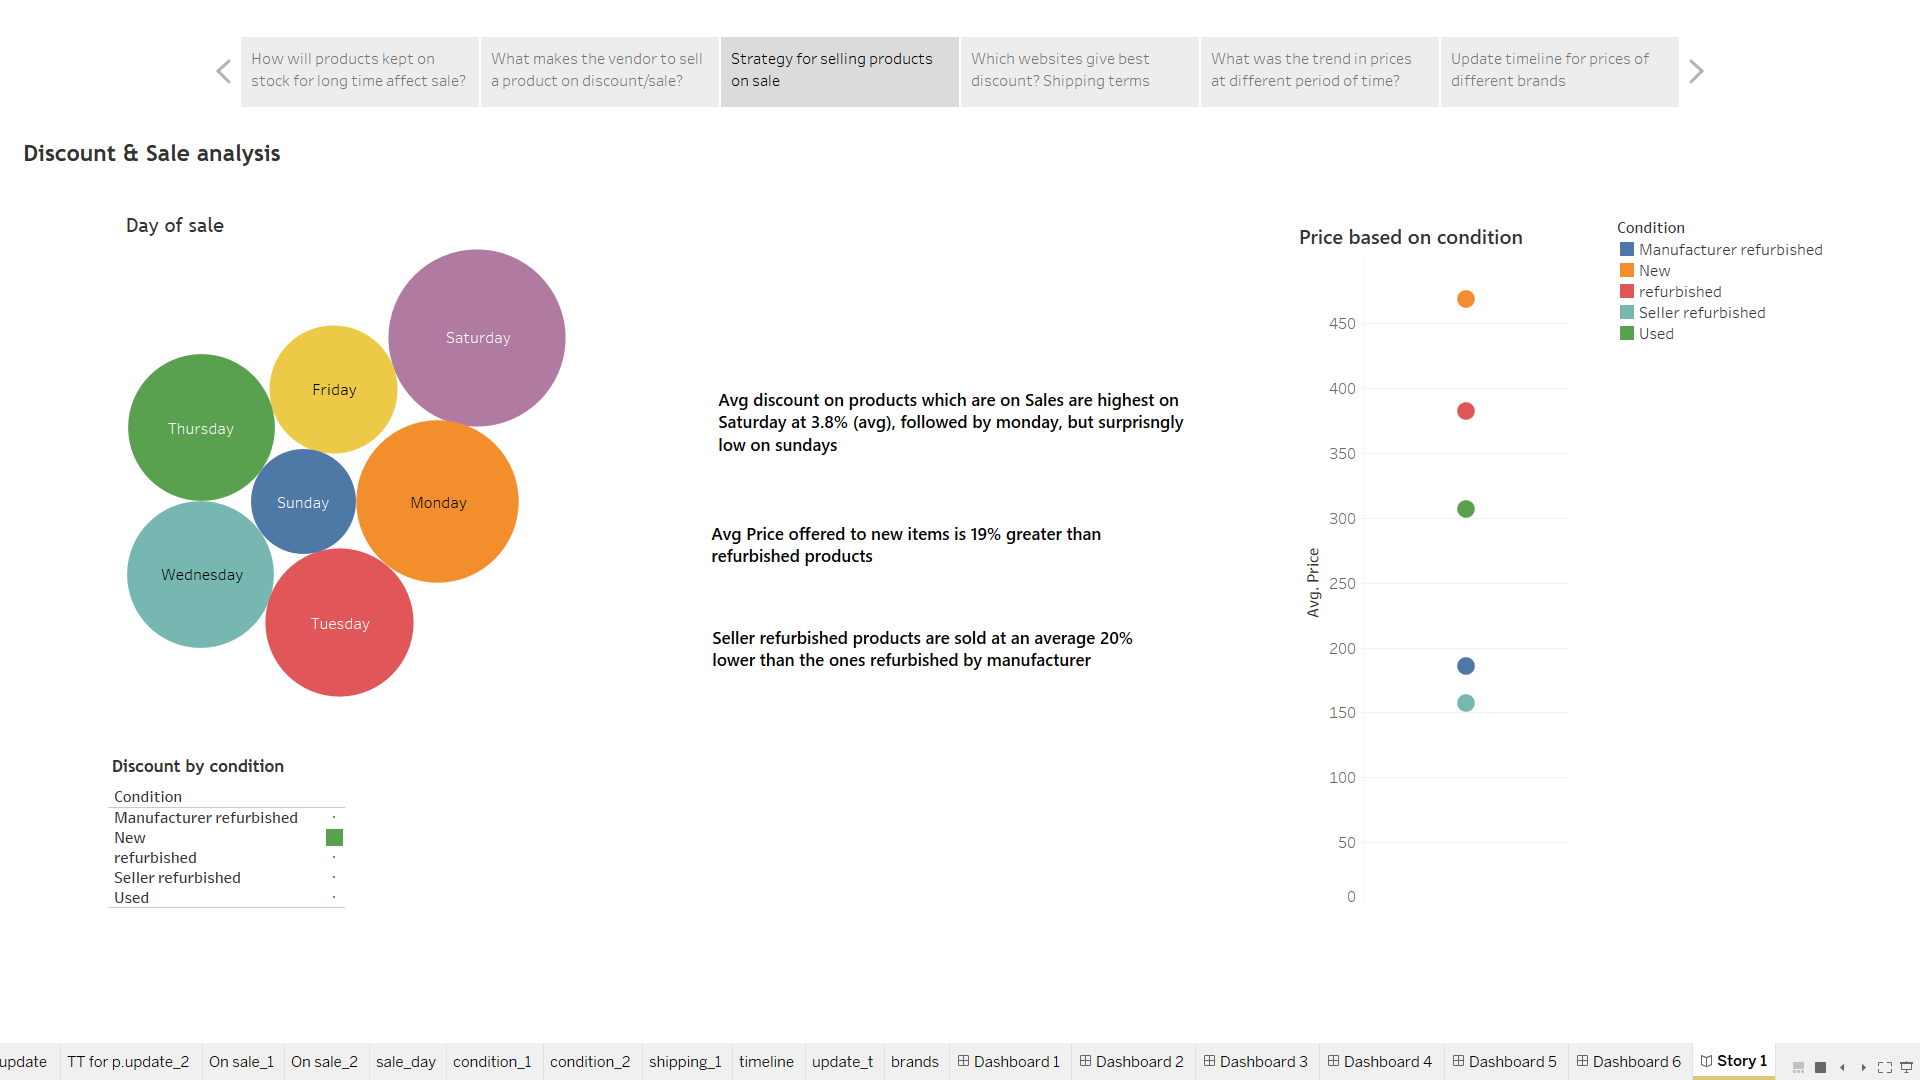

Layout of this report page (visuals, bound fields, positions):
{"tool":"tableau","page":{"name":"Dashboard 3","canvas":[1000,1000],"units":"permille","ordinal":2},"visuals":[{"type":"title","box":[4.8,9.3,990.3,40.6]},{"type":"worksheet","title":"sale_day","mark":"Circle","box":[59.8,90.6,344,537.8]},{"type":"legend","title":"condition_2","param":"[federated.1vl33a51myhwji18jspvm1r1us8n].[none:Condition:nk]","box":[844.9,98.7,127.3,199.8]},{"type":"worksheet","title":"condition_2","mark":"Shape","rows":["prices_amountmin"],"box":[675.9,99.9,143.6,758.4]},{"type":"text","box":[371.2,275.3,261.9,98.7]},{"type":"text","box":[367.5,410,254.1,99.9]},{"type":"text","box":[368.1,518,232.3,113.8]},{"type":"worksheet","title":"condition_1","mark":"Automatic","rows":["Condition"],"box":[52.5,688.7,182.9,235.8]}]}

Visuals, with their boxes on the dashboard's canvas, which has no fixed pixel size, in thousandths of its width and height (x1, y1, x2, y2). These are canvas units, not pixel positions in the 1920x1080 screenshot, which may show the page scaled, cropped or inside an application window:
title: Rect(5, 9, 995, 50)
"sale_day" worksheet (Circle marks): Rect(60, 91, 404, 628)
"condition_2" legend: Rect(845, 99, 972, 298)
"condition_2" worksheet (Shape marks): Rect(676, 100, 820, 858)
text: Rect(371, 275, 633, 374)
text: Rect(368, 410, 622, 510)
text: Rect(368, 518, 600, 632)
"condition_1" worksheet: Rect(52, 689, 235, 924)
